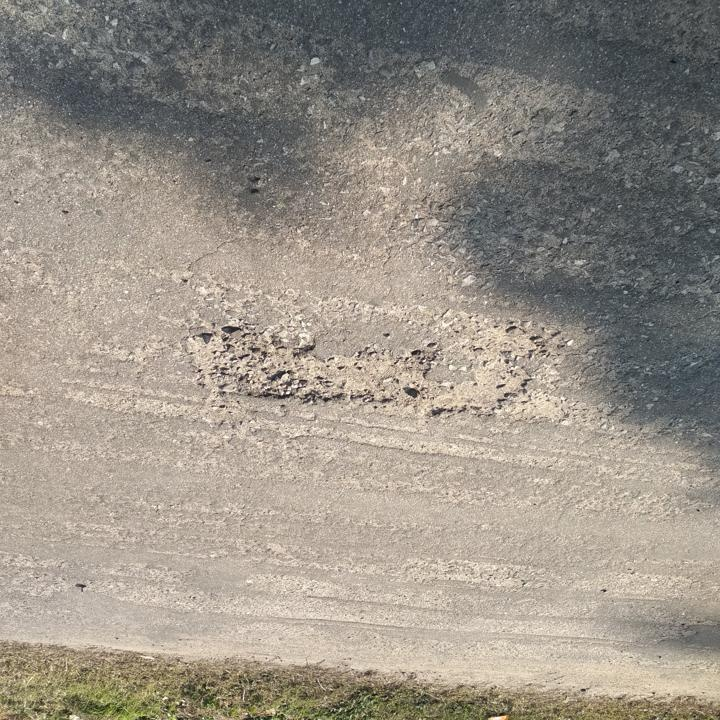pothole: (180, 324, 538, 422)
